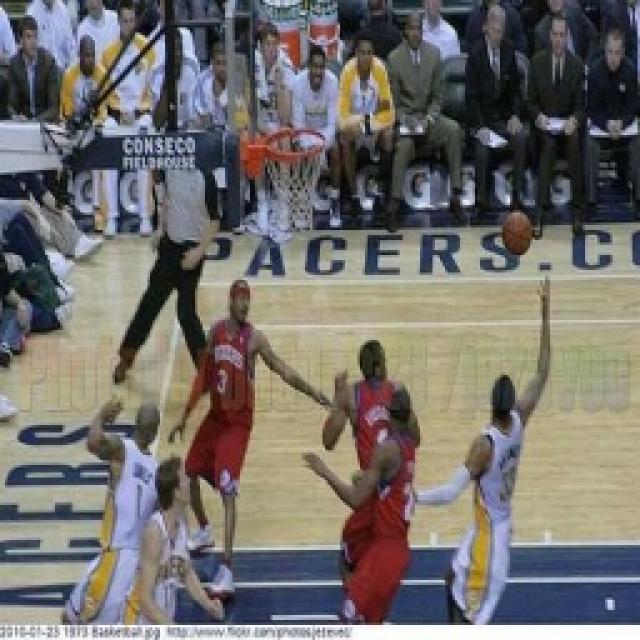rim: (500, 211, 538, 256)
